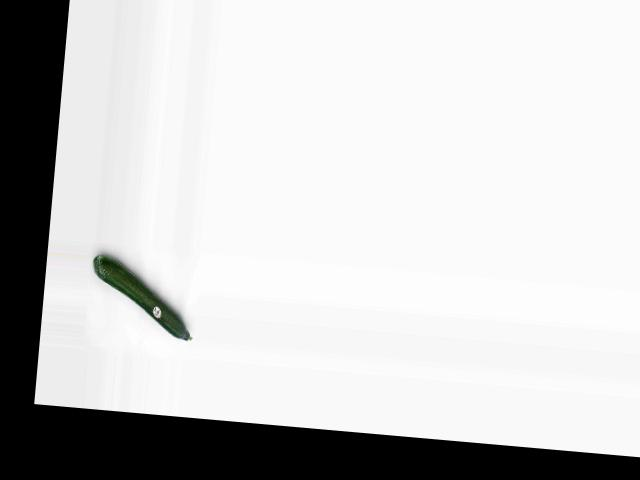cucumber: (88, 254, 199, 341)
